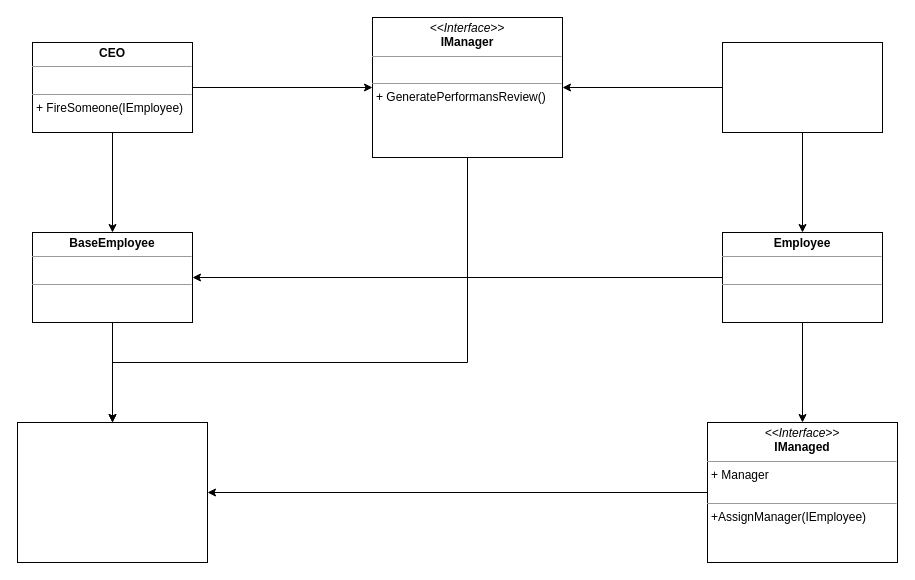
This 915x580 diagram has some shape labels left out. Each missing label, with the centre of its shape:
<<Interface>> IEmployee + Name + Solary + CalculatePerHourRate(int rank): pixel 112 492
Manager: pixel 802 87
